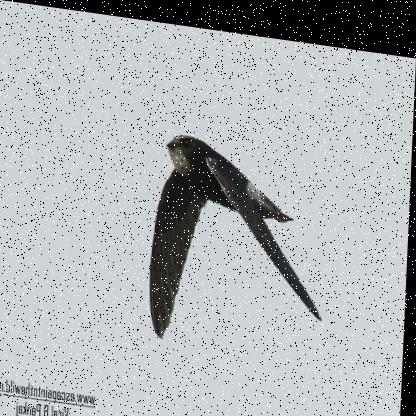Burung: (151, 126, 330, 349)
